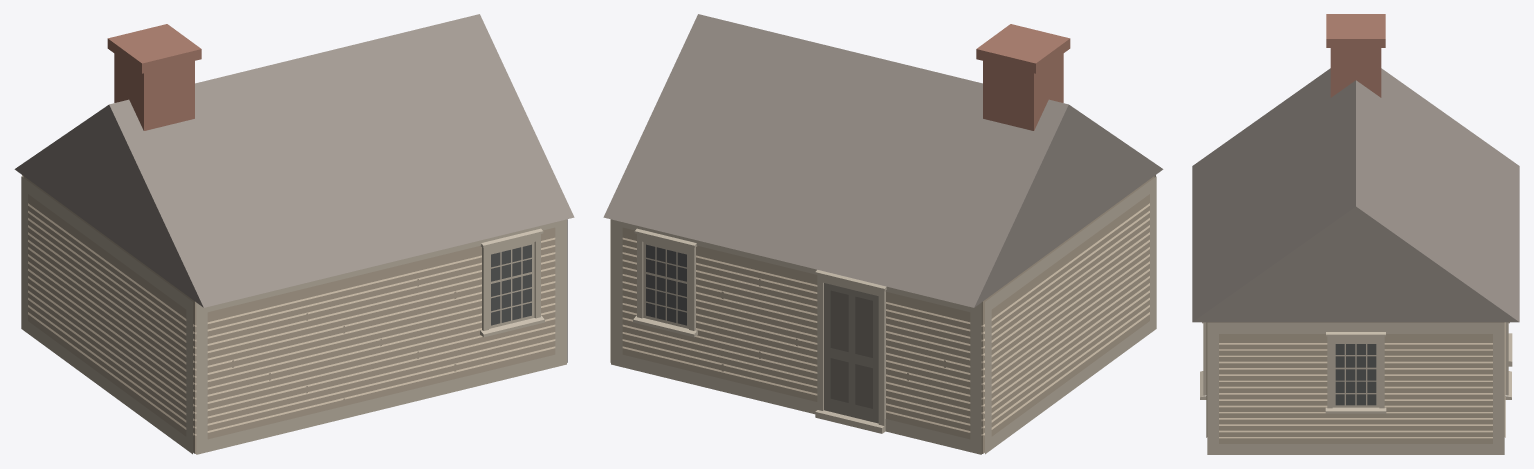
File: chicago_lighthouse_keepers_quarters__quarters_1832.glb
3 views of the same model, side by side, from view 1: azimuth 30°, elevation 25°; view 2: azimuth 150°, elevation 25°; view 3: azimuth 270°, elevation 25° (orthographic). The views are drawn at different scales.
Parts seen in each view (by area): view 1: chicago_lighthouse_keepers_quarters__quarters_1832; view 2: chicago_lighthouse_keepers_quarters__quarters_1832; view 3: chicago_lighthouse_keepers_quarters__quarters_1832.
Boxes of the visible parts, x1,y1,x2,y2 form: chicago_lighthouse_keepers_quarters__quarters_1832: (14,14,574,454); chicago_lighthouse_keepers_quarters__quarters_1832: (603,14,1163,454); chicago_lighthouse_keepers_quarters__quarters_1832: (1192,14,1519,454).
Bounding box in the file's own units: 6.26 × 5.29 × 5.4.
